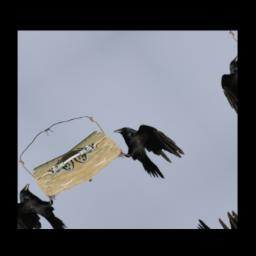Crow: (102, 109, 194, 190)
